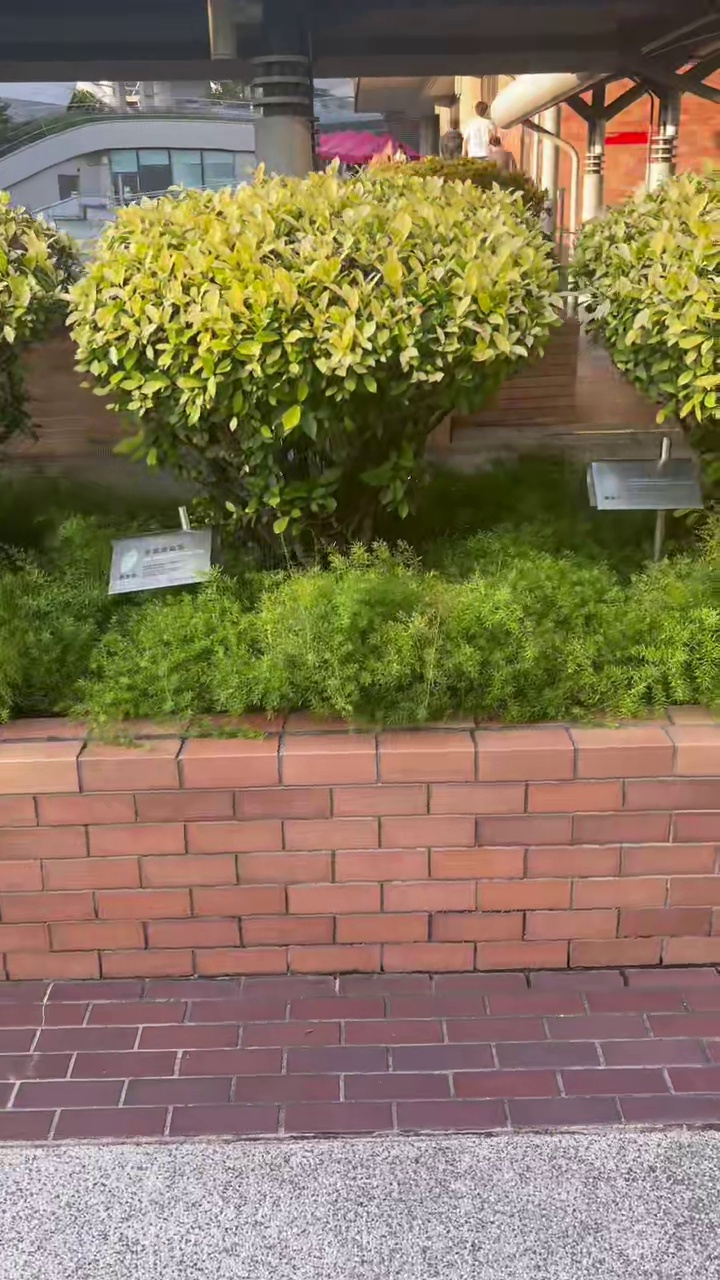Golden-leaves Fig: (68, 165, 558, 550)
